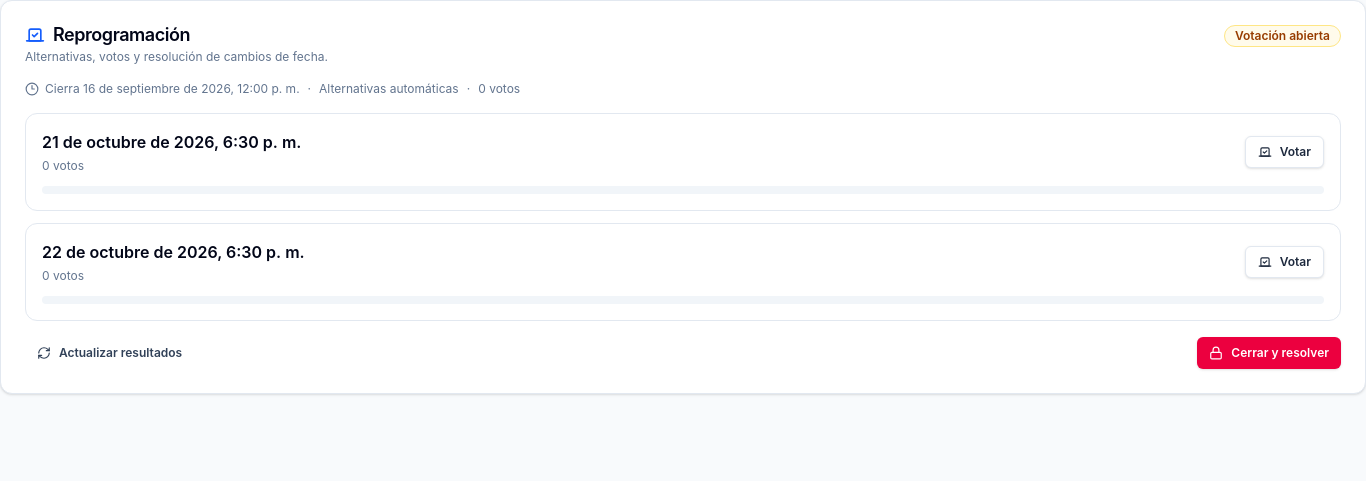
Test: VotingPanel › permite al organizador cerrar y resolver la votación
The width and height of the screenshot is (1366, 481).
Click the button "Cerrar y resolver": click(1269, 353) [1197,337,1341,369]
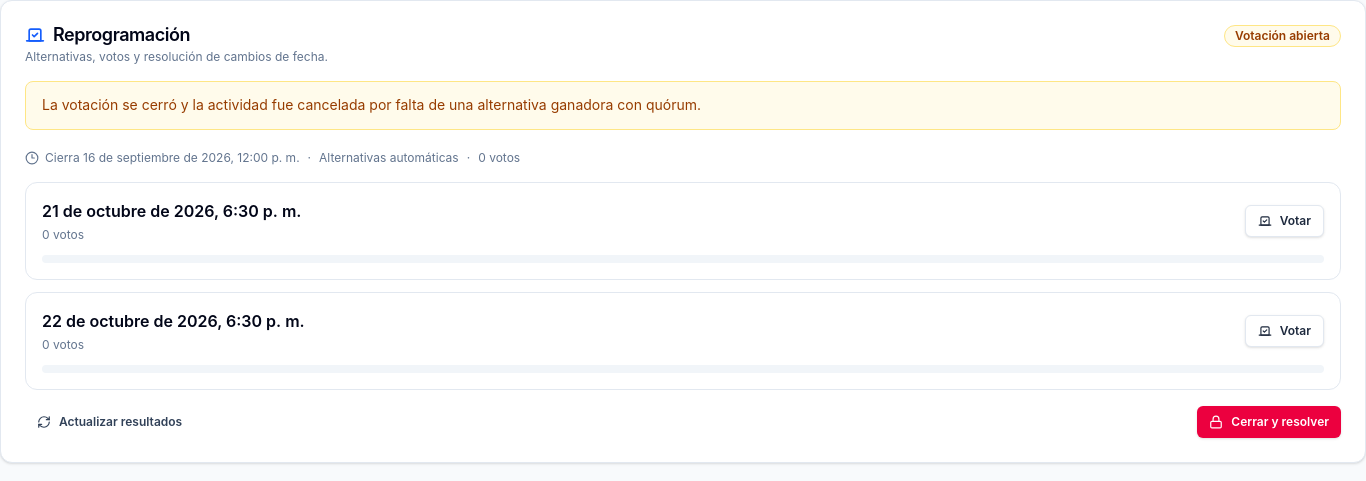
Expected: the text "La votación se cerró y la actividad fue cancelada por falta de una alternativa ganadora con quórum." is shown, [42,96,701,113]
